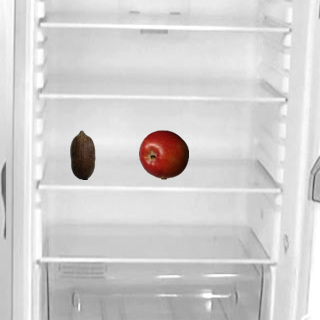Apple Braeburn: (138, 129, 188, 179)
Nut Pecan: (57, 129, 107, 179)
